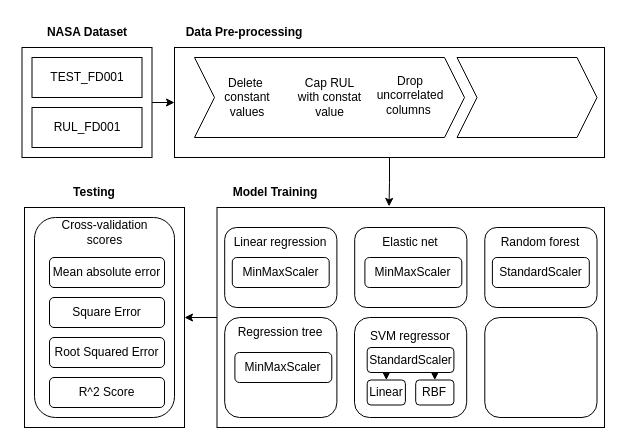
Image size: 622x445. Some labels were removed from this diagram. Each missing label, with the centre of its shape:
Basic Neural Network: point (540, 367)
Smoothing sensor Data: point (526, 97)
